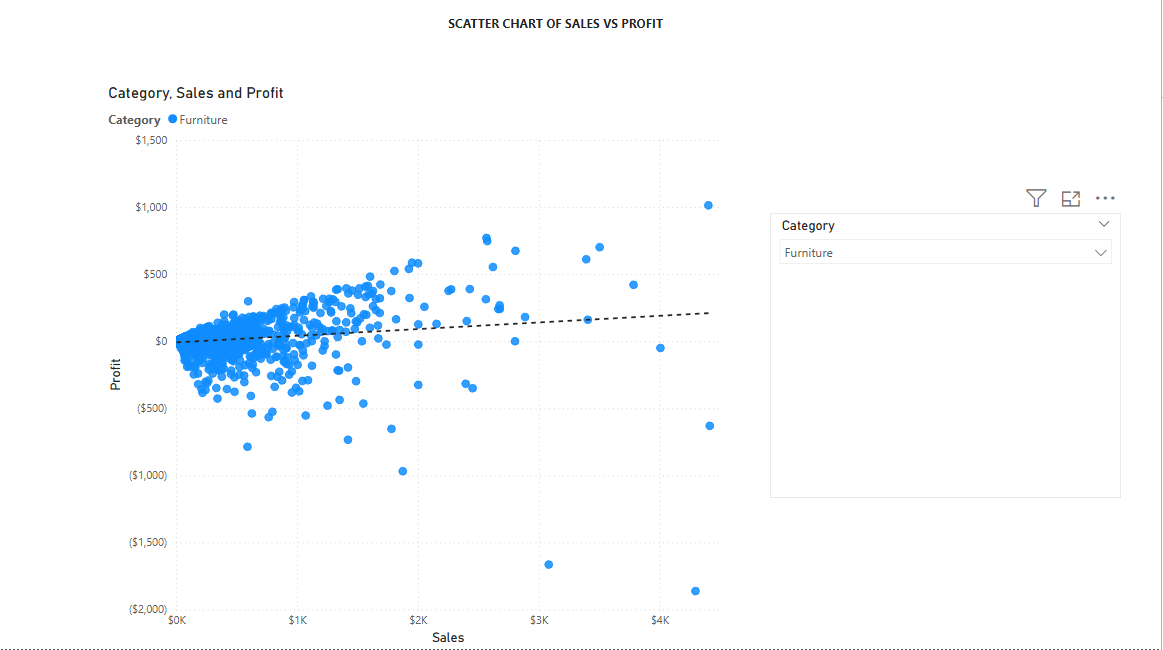

The dashboard page shown, as its layout file describes it:
{"tool":"powerbi","page":{"name":"6.Scatter chart of sales vs profit","canvas":[1280,720],"ordinal":1},"visuals":[{"type":"scatterChart","fields":{"X":["Orders.Sales"],"Y":["Orders.Profit"],"Series":["Orders.Category"]},"box":[119.1,98.3,691.7,621.7],"z":0},{"type":"slicer","fields":{"Values":["Orders.Category"]},"box":[850.4,241.9,385.5,311.8],"z":1000},{"type":"textbox","box":[493.2,18.9,383.6,45.4],"z":2000}]}

Visuals, with their boxes in screenshot pixels (x1, y1, x2, y2), scaled from the page's 1280x720 canvas onto the 1163x650 screenshot:
scatterChart - Orders.Sales x Orders.Profit: box=[108, 89, 737, 649]
slicer - Orders.Category: box=[773, 218, 1123, 500]
textbox: box=[448, 17, 797, 58]
